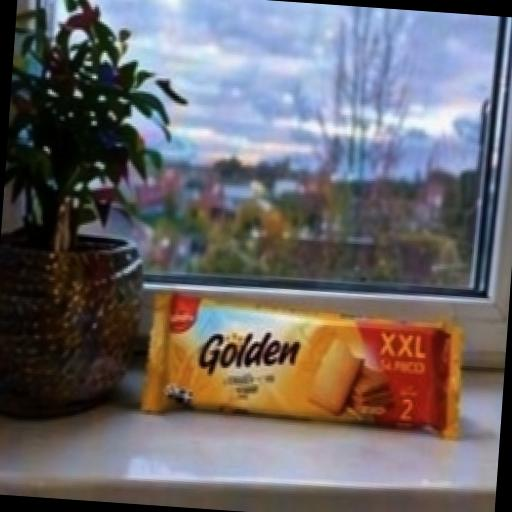golden: (104, 208, 510, 458)
